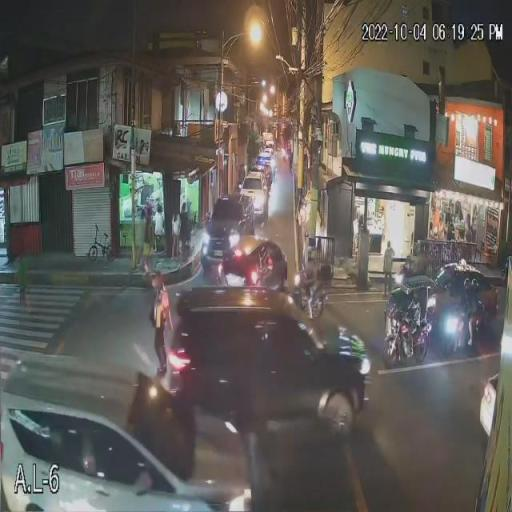helmet: (306, 247, 317, 261), (470, 278, 480, 292), (463, 279, 471, 291)
motorcycle: (434, 304, 492, 362), (382, 304, 432, 370), (294, 274, 330, 321)
rider: (389, 282, 423, 344), (457, 274, 488, 338), (299, 250, 325, 296)
